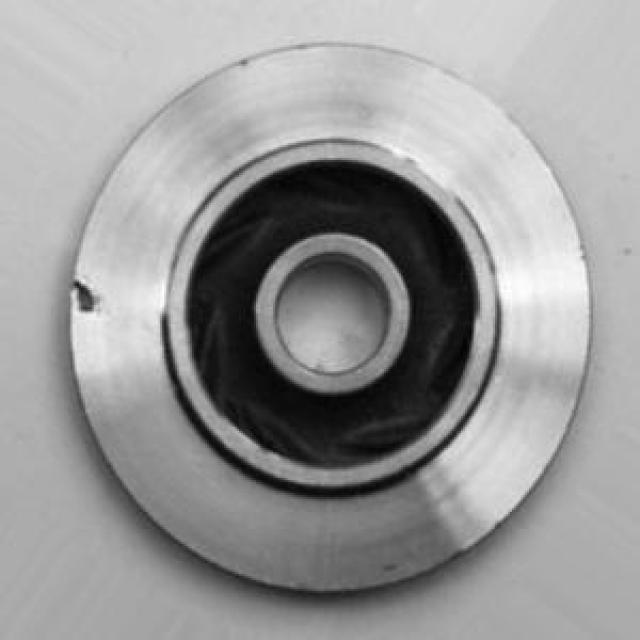Defect: (70, 274, 105, 319)
